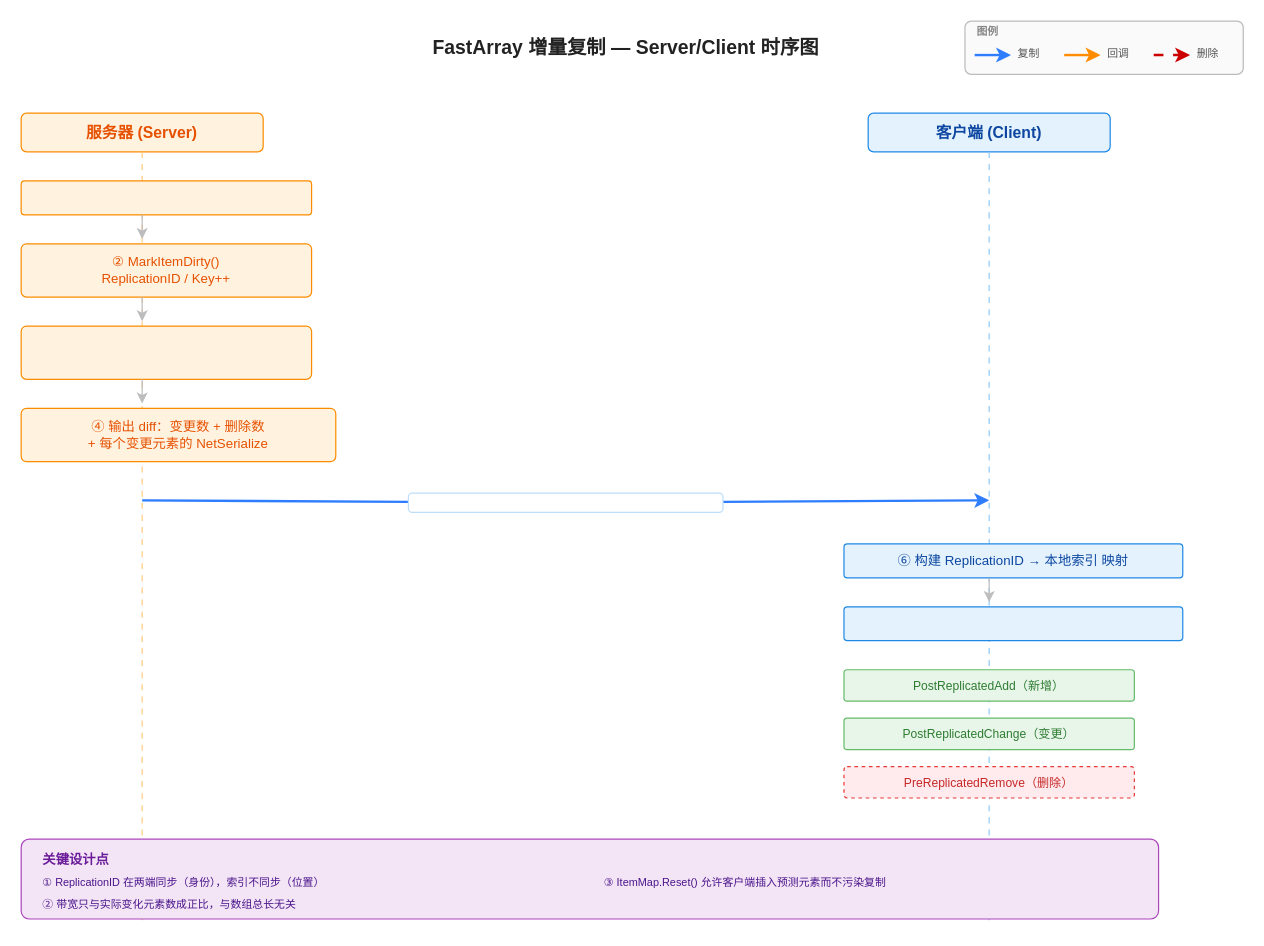
The diagram is 1264 pixels wide and 946 high, and some of its shapes have lost their labels. Here are the shapes that lost their labels. From the top down, the centre of each, then its label:
At (166,197): "① GE 被修改（属性/堆叠/移除）".
At (166,352): "③ FastArrayDeltaSerialize() 对比 IDToCLMap".
At (565,502): "⑤ 复制 diff（仅变化元素，非全量）".
At (1013,623): "⑦ 按变更/删除逐个回调".
